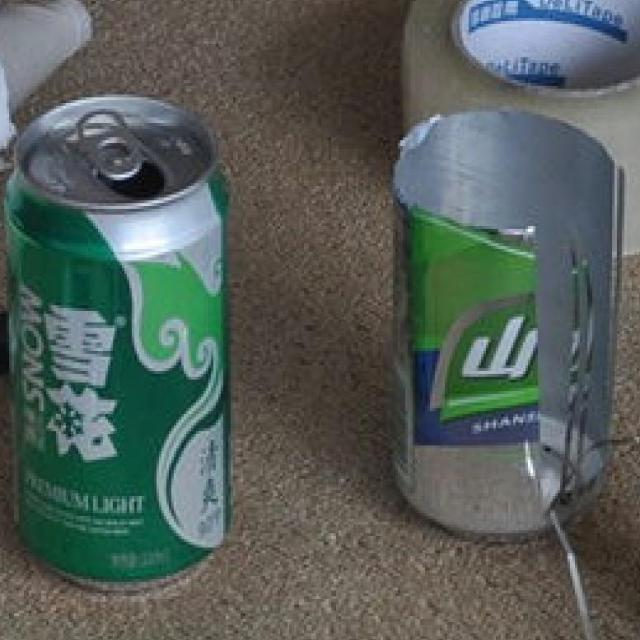-Recyclables - can-: (7, 97, 233, 593), (394, 111, 622, 544)
